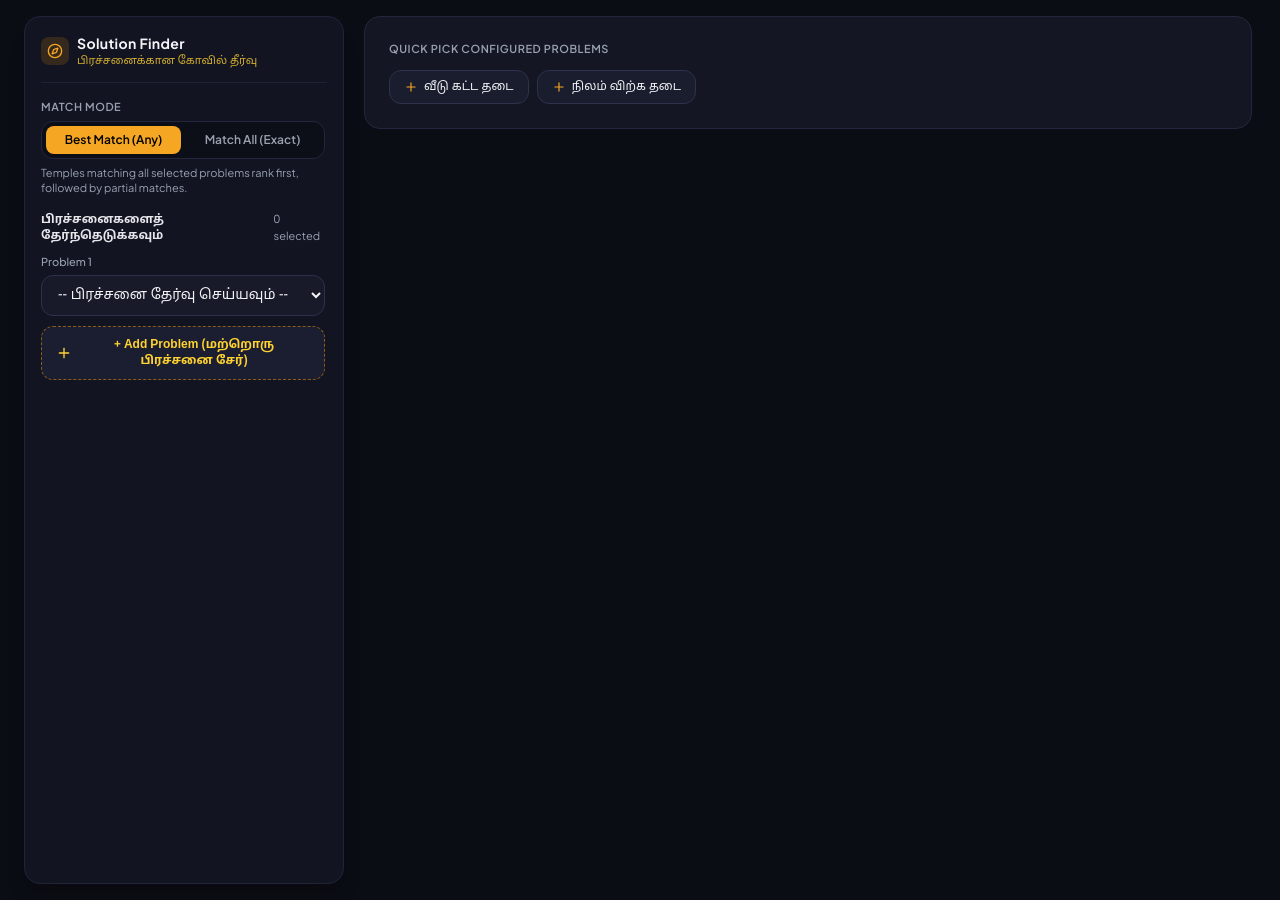
Test: Phase 2: Astrologer Solution Finder & Problem Tags Suite › supports dynamic 1-by-1 problem dropdowns and BOTH Best Match (Any) & Match All (Exact) modes in SolutionTab
Select "வீடு கட்ட தடை (Delay in building house)" in the dropdown labelled "Problem 1" at coordinates (183, 295), box x1=41 y1=275 x2=325 y2=316
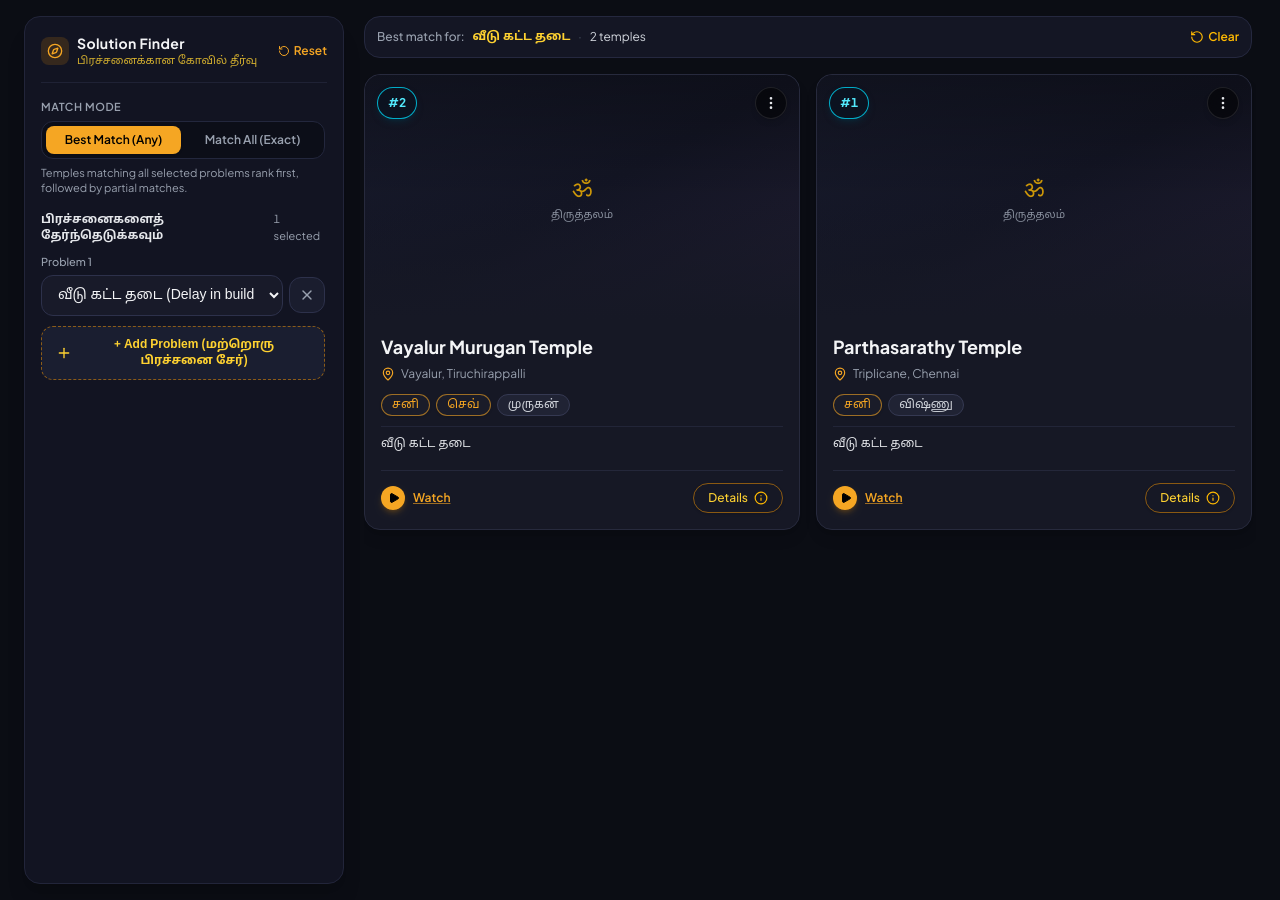
Expected: the heading "Parthasarathy Temple" is shown, x1=833 y1=335 x2=1022 y2=358
Expected: the heading "Vayalur Murugan Temple" is shown, x1=381 y1=335 x2=593 y2=358
// Add Problem 2 dynamically
Click the button "+ Add Problem (மற்றொரு பிரச்சனை சேர்)".
click(183, 353)  # box x1=41 y1=326 x2=325 y2=380
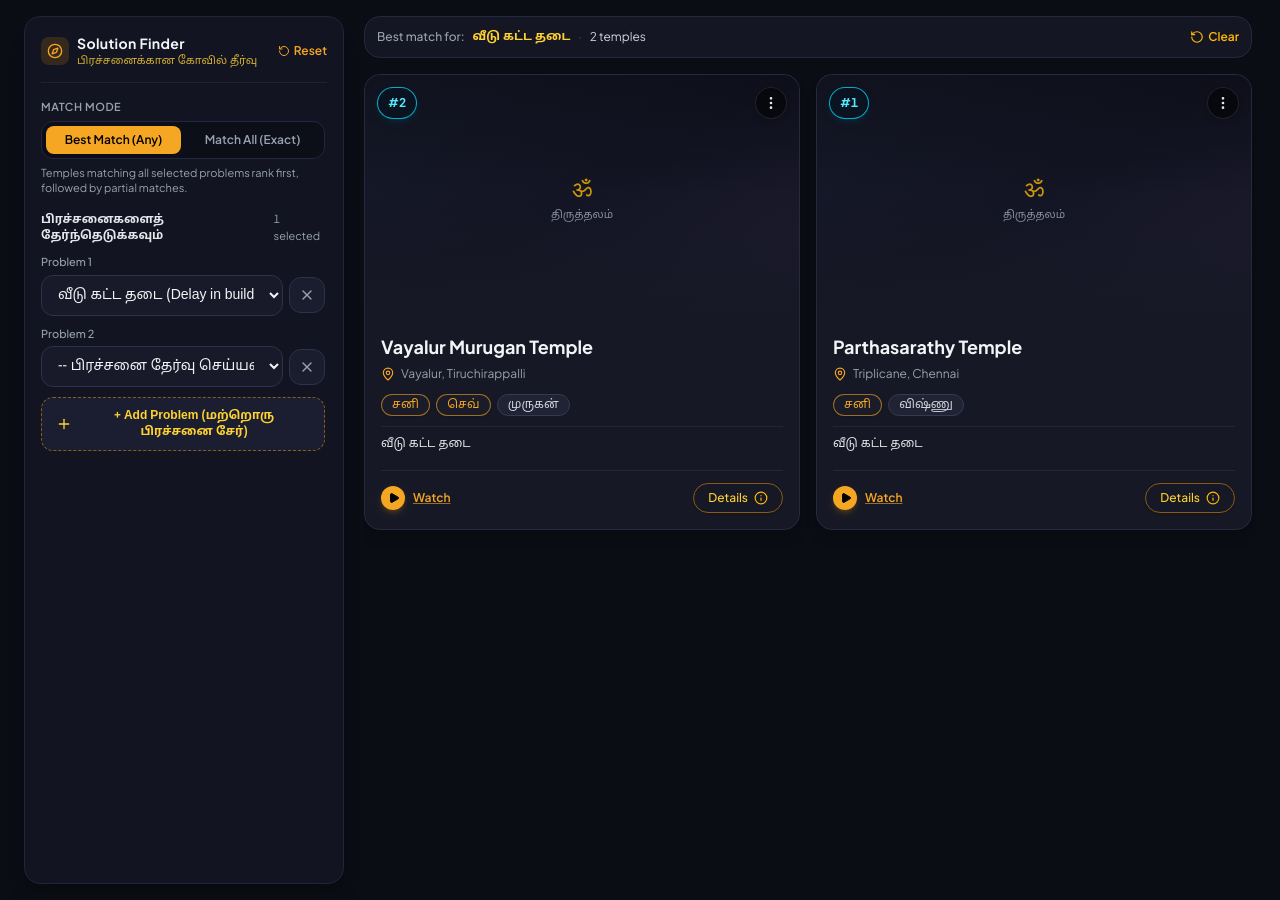
Expected: the dropdown labelled "Problem 2" is shown
Select "நிலம் விற்க தடை (Delay in selling land)" in the dropdown labelled "Problem 2" at coordinates (162, 367), box x1=41 y1=346 x2=283 y2=387
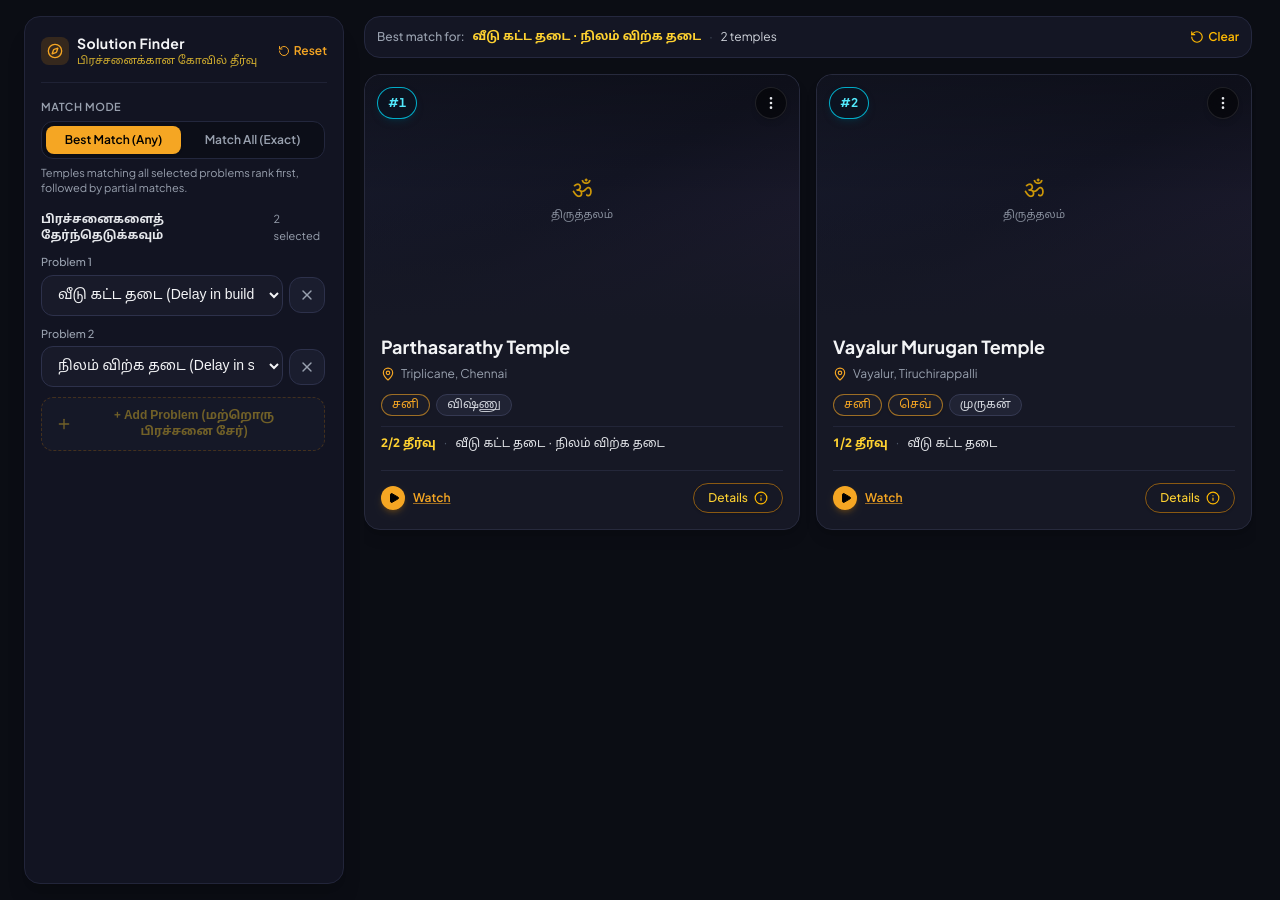
Expected: the text "2/2 தீர்வு" is shown, x1=381 y1=435 x2=436 y2=454
Expected: the text "1/2 தீர்வு" is shown, x1=833 y1=435 x2=888 y2=454
// Switch to Match All (Exact)
Click the button "Match All (Exact)".
click(252, 140)  # box x1=185 y1=126 x2=320 y2=154
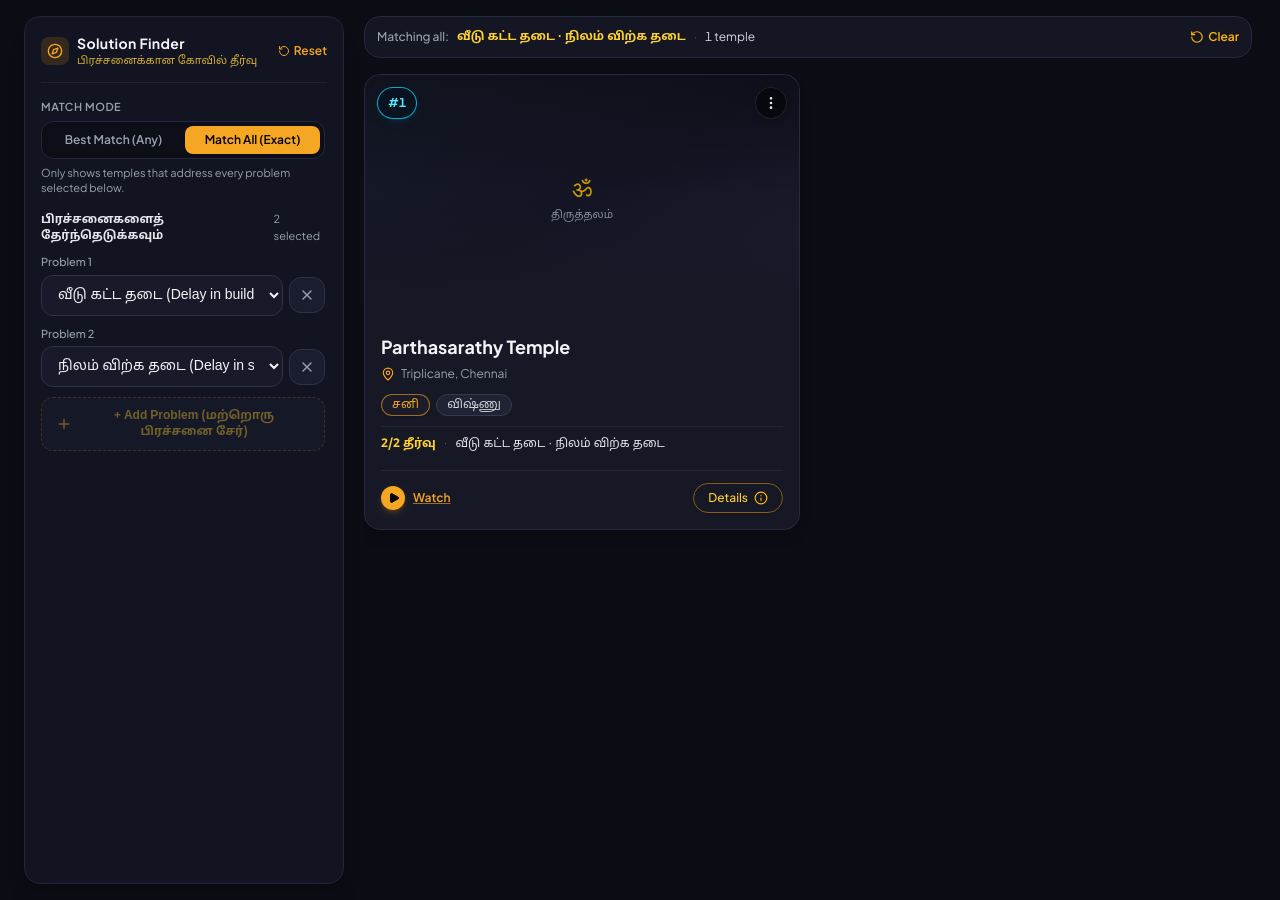
Expected: the heading "Parthasarathy Temple" is shown, x1=381 y1=335 x2=570 y2=358
Expected: the heading "Vayalur Murugan Temple" is gone
